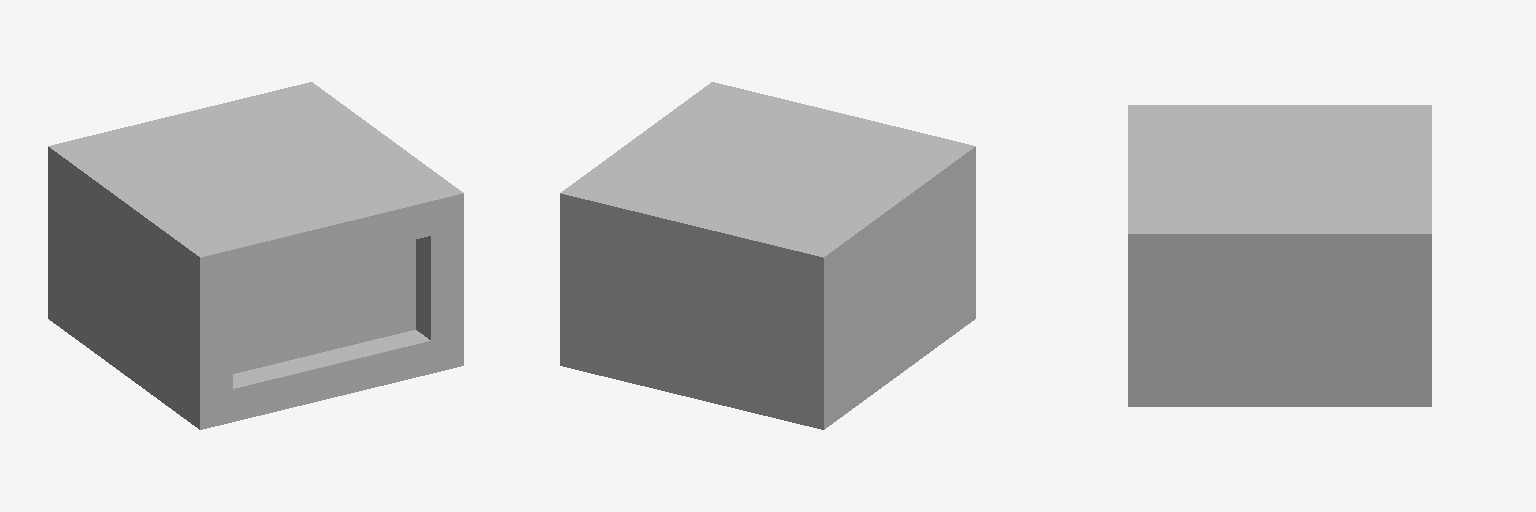
The model's file is building-window-wide.obj.
The picture shows the model from 3 angles: view 1: azimuth 30°, elevation 25°; view 2: azimuth 150°, elevation 25°; view 3: azimuth 270°, elevation 25°; orthographic projection.
Parts seen in each view (by area): view 1: building-window-wide; view 2: building-window-wide; view 3: building-window-wide.
Part boxes in pixels (x1,y1,x2,y2): building-window-wide: (48, 82, 463, 429); building-window-wide: (560, 82, 975, 429); building-window-wide: (1128, 105, 1431, 406).
Size of the model in its own units: 1 by 0.625 by 1.